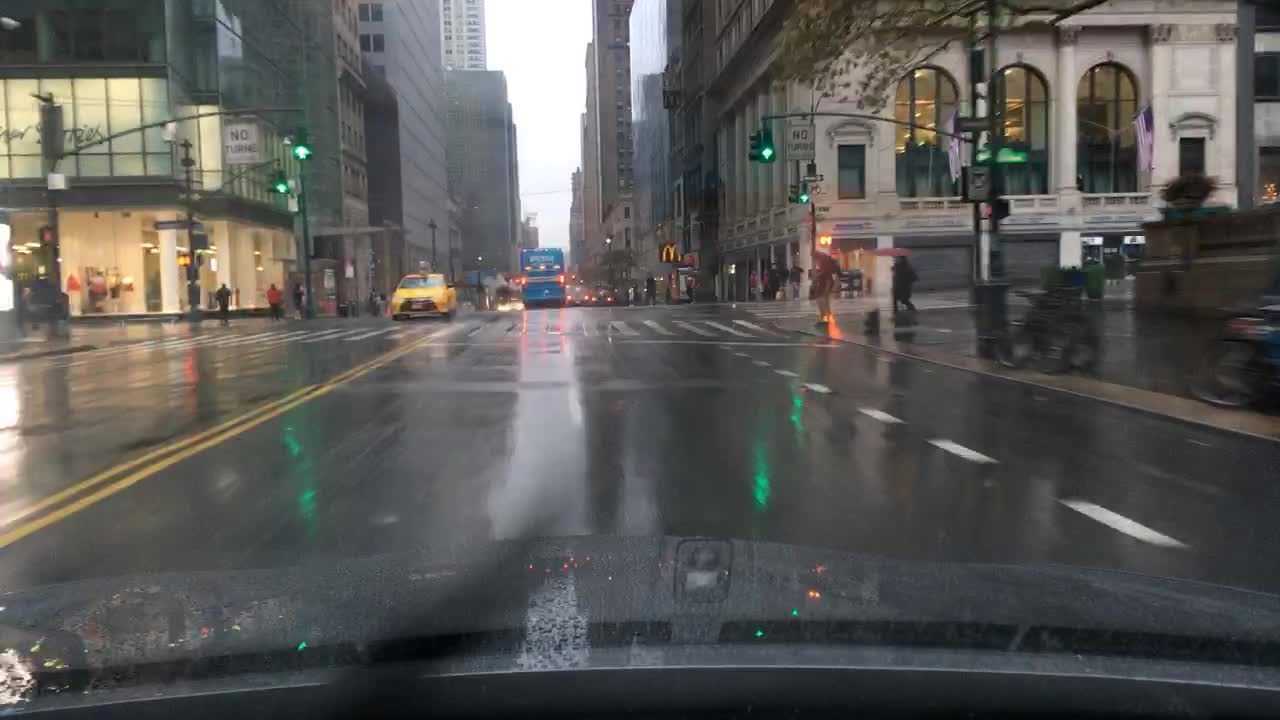bike: (1187, 298, 1277, 412), (989, 287, 1093, 371)
bus: (518, 247, 564, 306)
car: (390, 260, 459, 319), (492, 289, 520, 309), (564, 284, 589, 306), (589, 284, 614, 304)
person: (875, 244, 919, 313), (809, 247, 841, 326), (215, 283, 232, 326), (266, 283, 283, 321), (292, 281, 306, 322), (765, 263, 780, 300), (791, 261, 803, 306), (644, 272, 658, 304), (367, 286, 381, 313), (685, 278, 696, 301), (378, 290, 388, 313)
traffic light: (293, 125, 310, 159), (270, 168, 289, 194), (746, 130, 762, 160), (36, 225, 55, 245), (984, 203, 1009, 218), (762, 130, 774, 160), (786, 183, 800, 203), (799, 182, 809, 205), (816, 234, 831, 246), (176, 254, 190, 264)
traffic sign: (223, 119, 255, 165), (782, 123, 814, 162), (955, 110, 993, 132), (47, 172, 65, 188), (154, 220, 185, 229), (342, 257, 355, 278)
